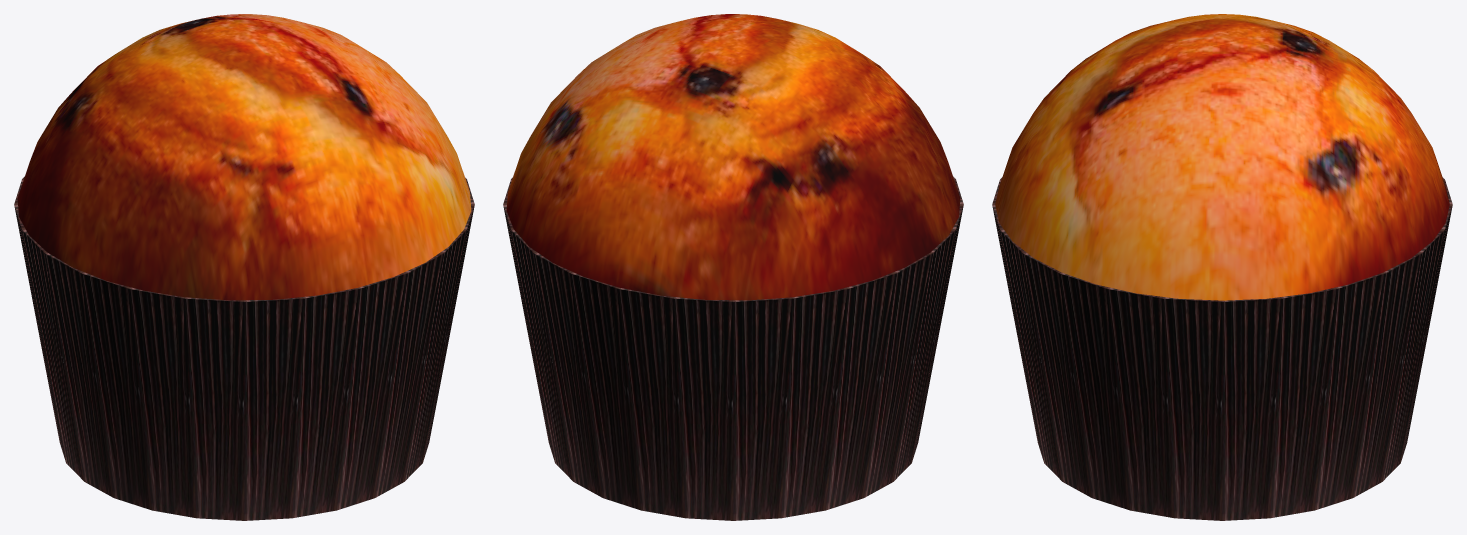
Rendered from Modelo3DMuffin.FBX.
3 views of the same model, side by side, from view 1: azimuth 30°, elevation 25°; view 2: azimuth 150°, elevation 25°; view 3: azimuth 270°, elevation 25° (orthographic).
Parts seen in each view (by area): view 1: Muffin, Envoltorio; view 2: Muffin, Envoltorio; view 3: Muffin, Envoltorio.
Part boxes in pixels (bbox=[...]): Muffin: bbox=[17, 14, 471, 300]; Envoltorio: bbox=[14, 176, 474, 520]; Muffin: bbox=[506, 14, 960, 300]; Envoltorio: bbox=[503, 176, 963, 520]; Muffin: bbox=[995, 14, 1449, 300]; Envoltorio: bbox=[992, 177, 1452, 520].
Size of the model in its own units: 58.31 by 56.91 by 58.31.
Materials: 2 (2 with a texture image).
